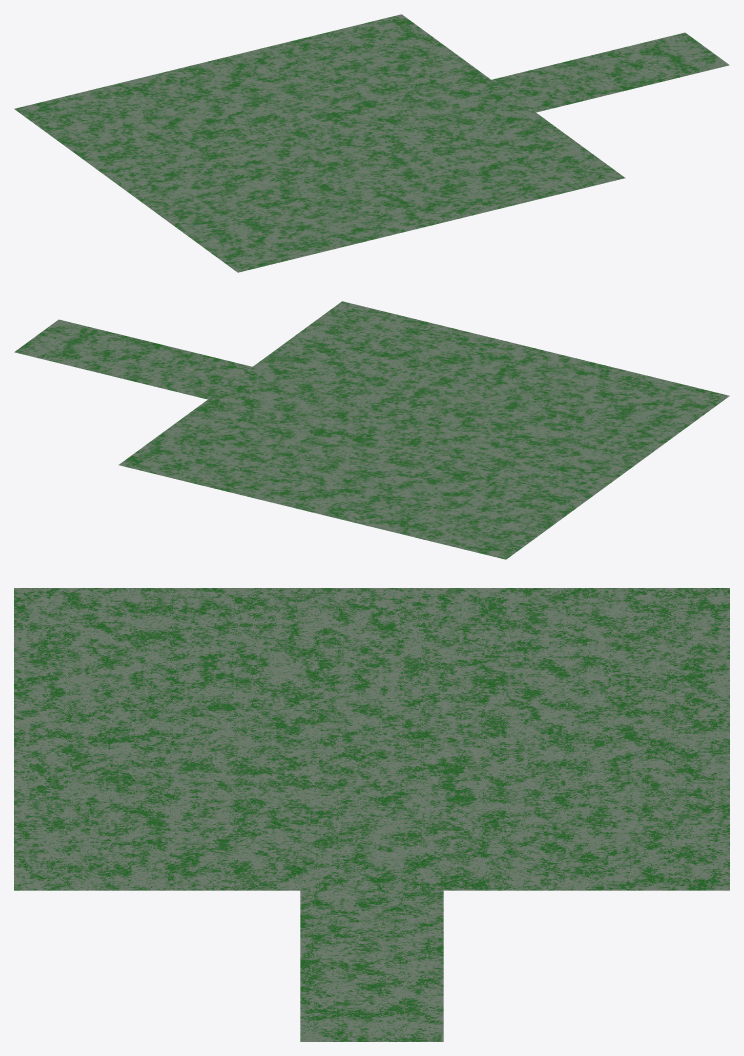
The model's file is WestDoorFloor.glb.
3 renders of one model, top to bottom at view 1: azimuth 30°, elevation 25°; view 2: azimuth 150°, elevation 25°; view 3: azimuth 270°, elevation 25°, orthographic. The views are drawn at different scales.
Parts seen in each view (by area): view 1: Floor; view 2: Floor; view 3: Floor.
Part boxes in pixels (left/top/right/bottom): Floor: left=14, top=14, right=729, bottom=272; Floor: left=14, top=301, right=729, bottom=559; Floor: left=14, top=588, right=729, bottom=1041.
Bounding box in the file's own units: 150 × 0 × 100.
1 material, 1 textured.
